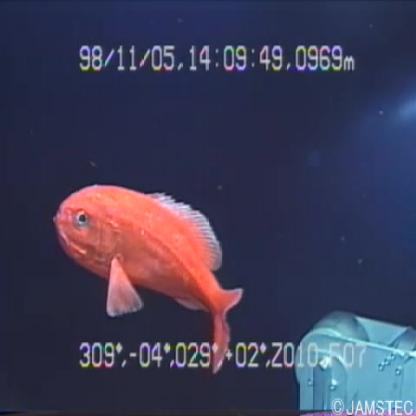Bio: (49, 180, 247, 384)
Rov: (288, 302, 416, 413)
